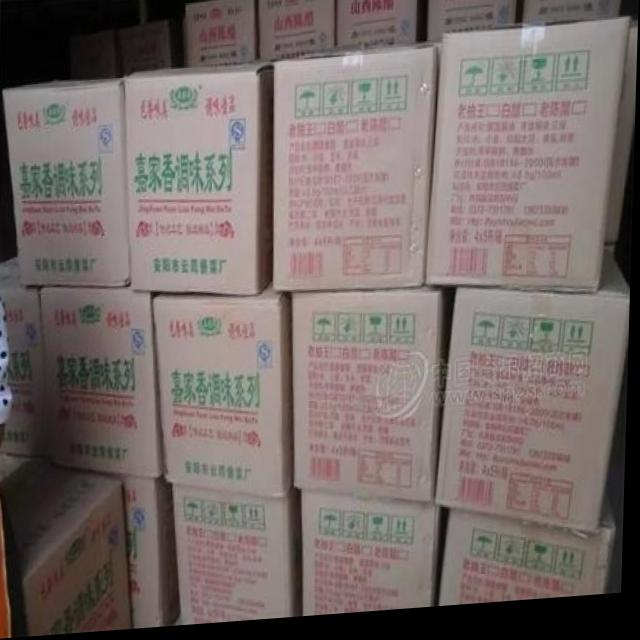box: (426, 26, 632, 301), (436, 259, 632, 543), (273, 46, 442, 300), (128, 66, 274, 300), (293, 296, 448, 510), (156, 286, 297, 501), (6, 81, 130, 291), (0, 453, 138, 638), (42, 287, 166, 484), (58, 467, 184, 629), (443, 496, 618, 612), (176, 484, 301, 627), (304, 495, 444, 621), (0, 256, 50, 463), (606, 28, 637, 262), (260, 0, 336, 67), (185, 0, 256, 69), (337, 0, 418, 57), (427, 0, 517, 47), (524, 0, 623, 31)
